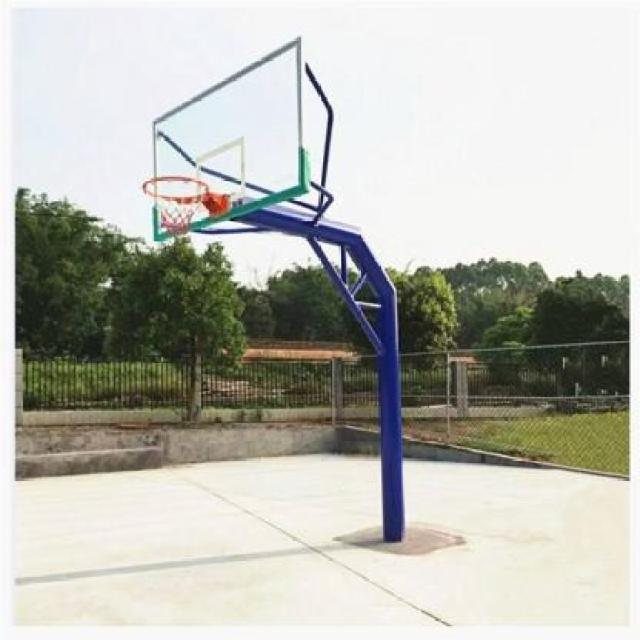rim: (140, 177, 208, 236)
